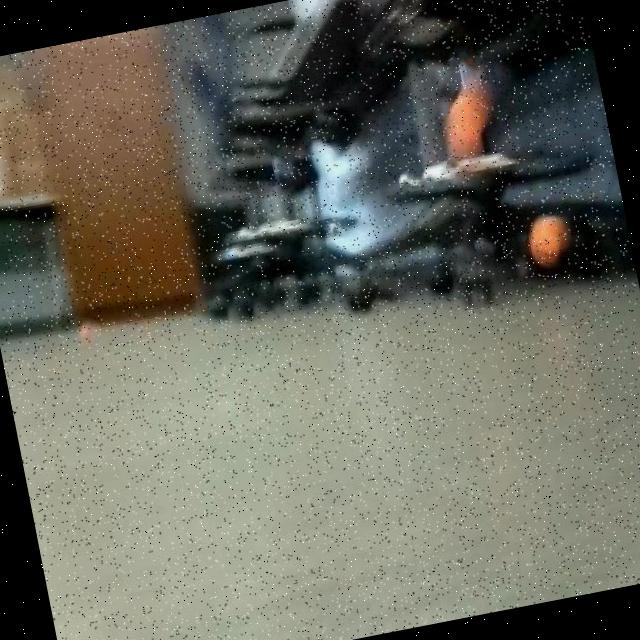ping-pong-ball: (527, 210, 576, 282)
